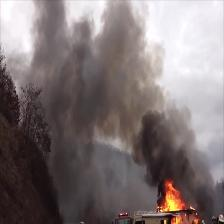fire: (159, 181, 200, 223)
smoke: (35, 1, 130, 136), (134, 99, 210, 177), (134, 9, 174, 94)
